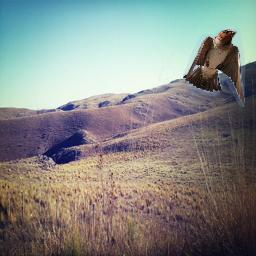Swallow: (183, 29, 245, 107)
